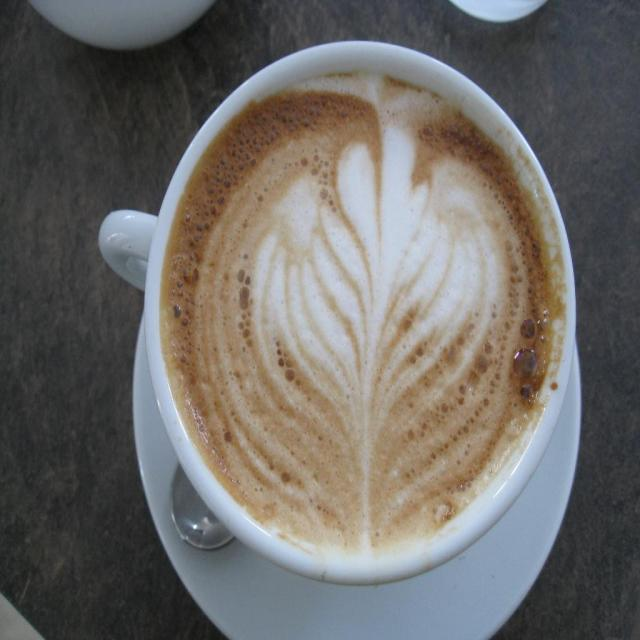Coffee: (112, 39, 604, 608)
